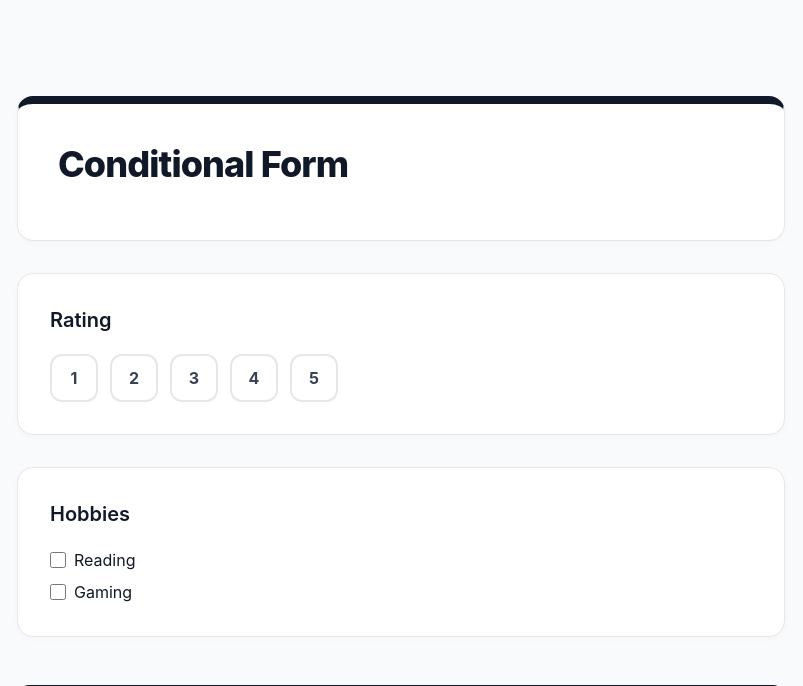
Scenario: PublicForm Component - Question Types & Visibility › evaluates conditional visibility when target question is a rating or multiple_choice
The image size is (803, 686).
Expected: the text "Rating" is shown, [50, 308, 112, 332]
Expected: the text "Why the high score?" is not shown
What coordinates should you click on to do the following:
click the button "4"
I would click on:
 (254, 378)
Its box is [230, 354, 278, 402].
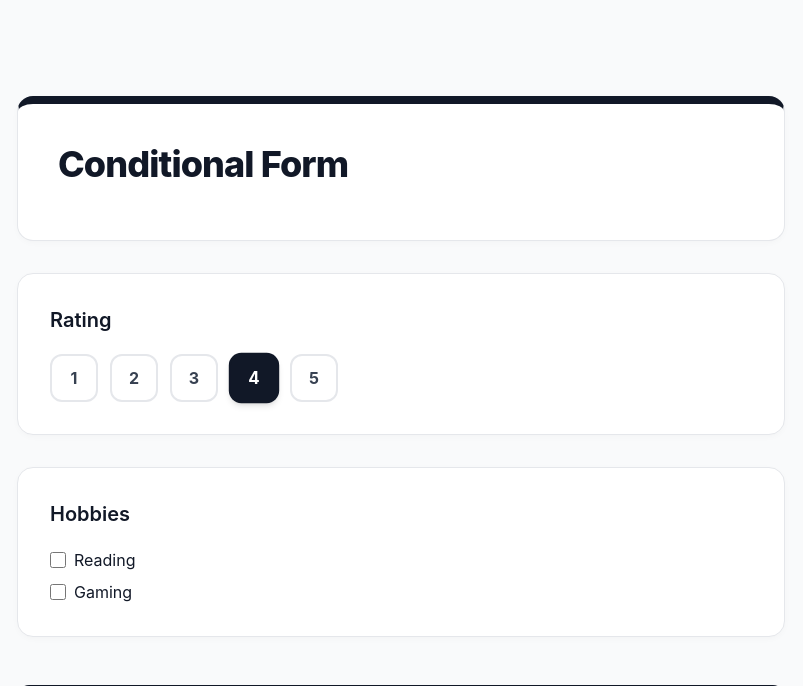
Expected: the text "Why the high score?" is not shown
What coordinates should you click on to do the following:
click the button "5"
I would click on:
 (314, 378)
Its box is [290, 354, 338, 402].
(page scrolled)
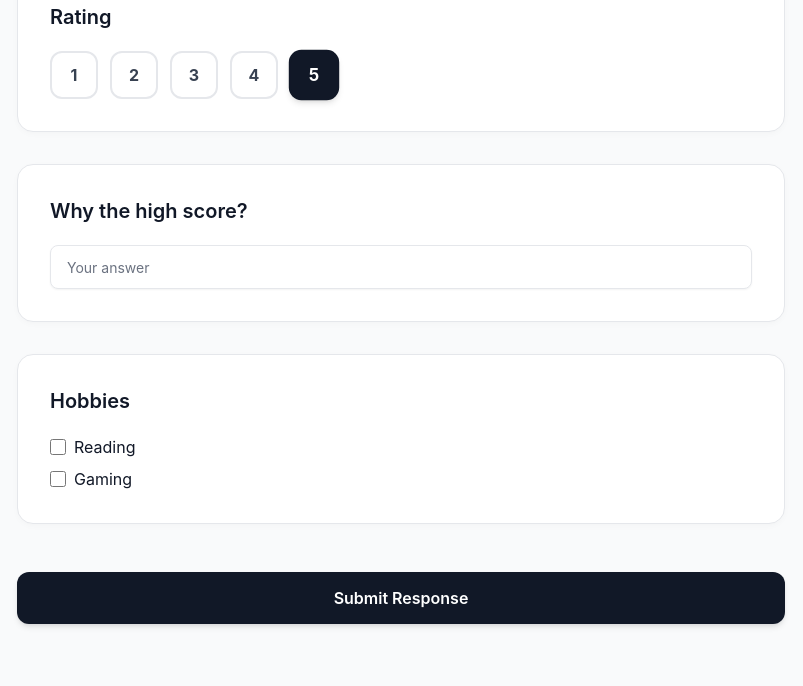
Expected: the text "Why the high score?" is shown, [50, 199, 248, 223]
What coordinates should you click on to do the following:
click the checkbox labelled "Reading"
I would click on:
 (58, 447)
Its box is [50, 439, 66, 455].
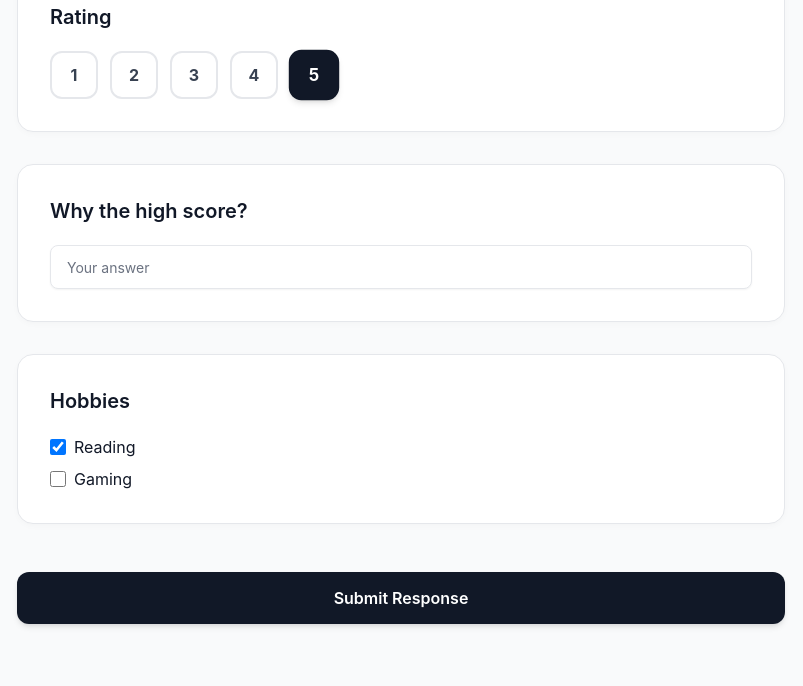
Expected: the text "What is your GamerTag?" is not shown
What coordinates should you click on to do the following:
click the checkbox labelled "Gaming"
I would click on:
 (58, 479)
Its box is [50, 471, 66, 487].
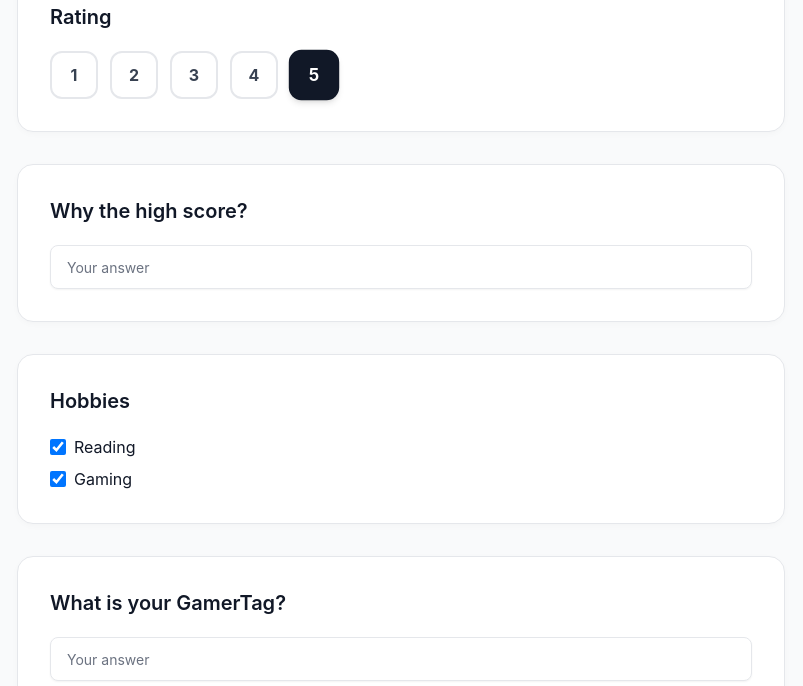
Expected: the text "What is your GamerTag?" is shown, [50, 591, 286, 615]
